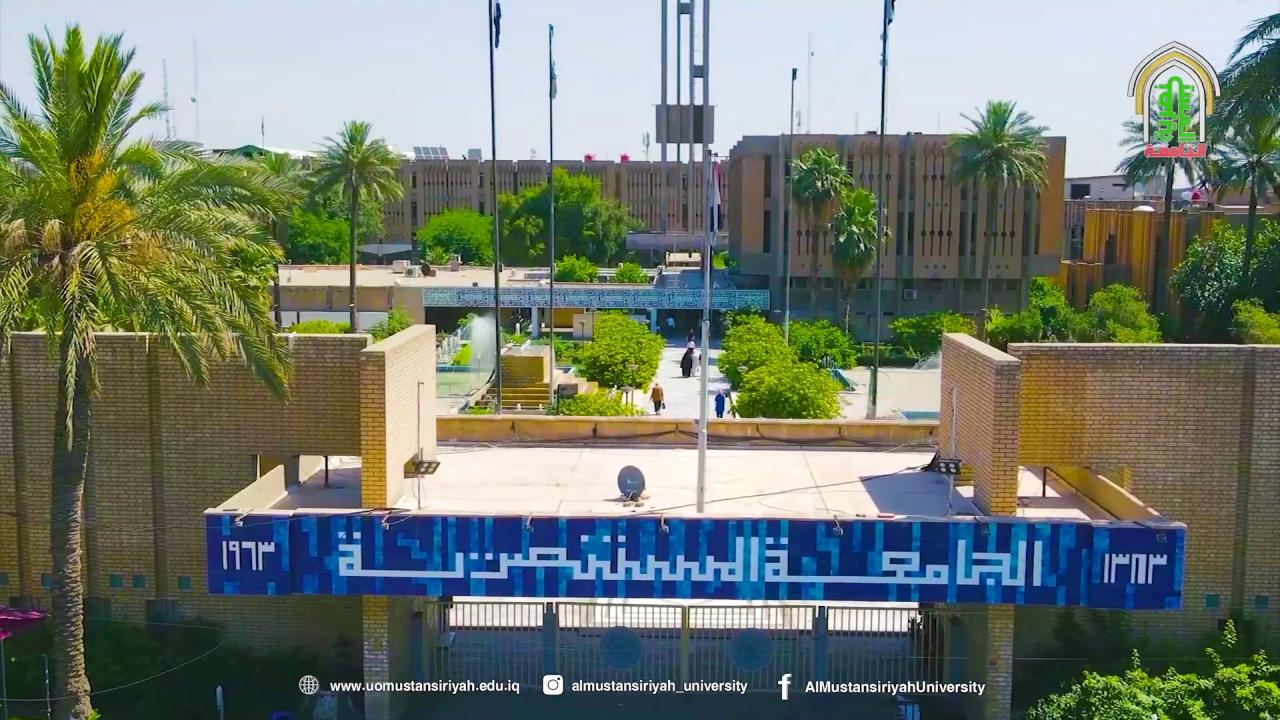fountain: (435, 310, 500, 411)
person: (649, 382, 664, 415), (680, 348, 694, 378), (715, 389, 725, 417), (694, 348, 702, 376), (686, 330, 695, 349)
tree: (0, 19, 305, 717), (1115, 9, 1279, 325), (493, 164, 644, 391), (942, 97, 1051, 341), (1024, 616, 1279, 718), (307, 118, 405, 331), (494, 165, 644, 271), (1206, 110, 1278, 295), (783, 145, 853, 322), (570, 310, 666, 408), (828, 185, 889, 333), (730, 360, 844, 419), (715, 310, 794, 391), (1082, 281, 1162, 342), (413, 207, 494, 267), (887, 309, 975, 362), (784, 316, 858, 371), (1024, 275, 1077, 341)
